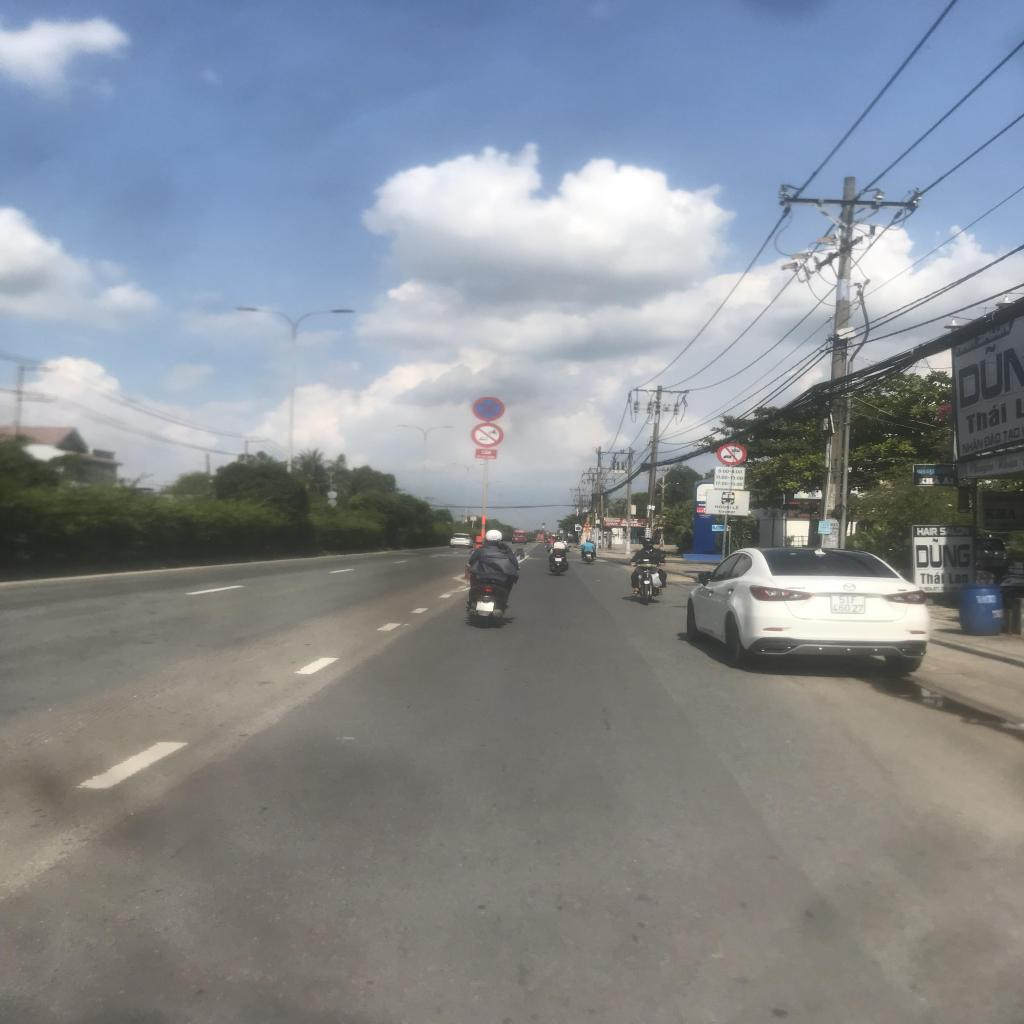cam_do_xe: (576, 527, 580, 530)
cam_dung_xe_va_do_xe: (472, 396, 504, 421)
cam_o_to_tai_va_xe_khach: (717, 443, 747, 466)
cam_xe_2_banh_va_xe_3_banh_co_dong_co: (471, 423, 503, 448)
chu_y_tre_em: (584, 527, 592, 532)
giao_nhau_voi_duong_khong_uu_tien: (584, 521, 591, 527)
khac: (704, 490, 751, 517), (714, 466, 746, 490)
